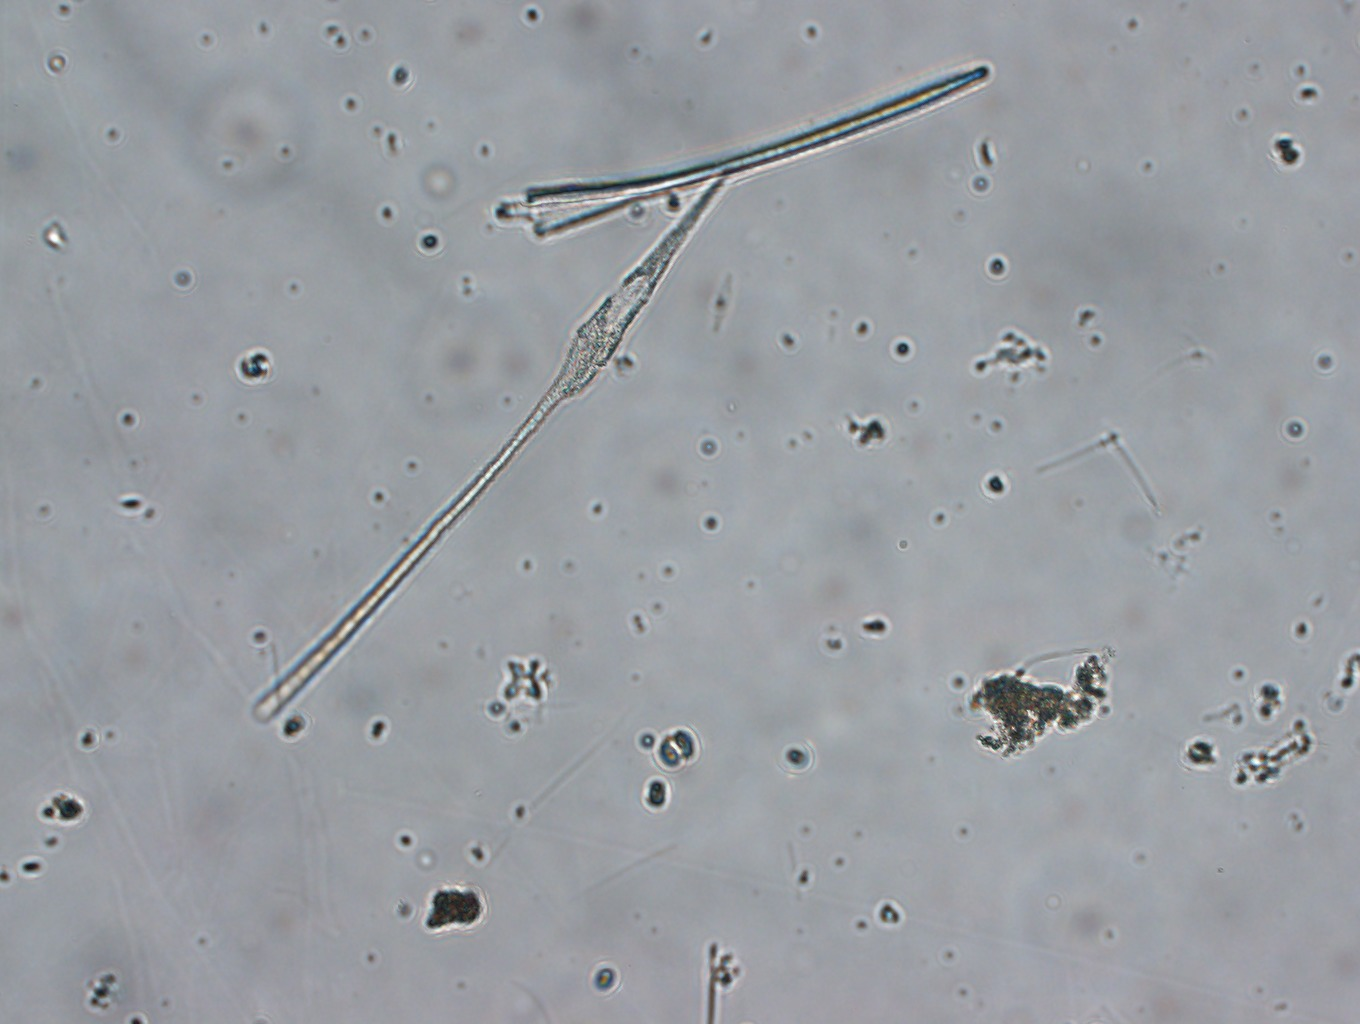ceratium fusus: (245, 167, 731, 727)
